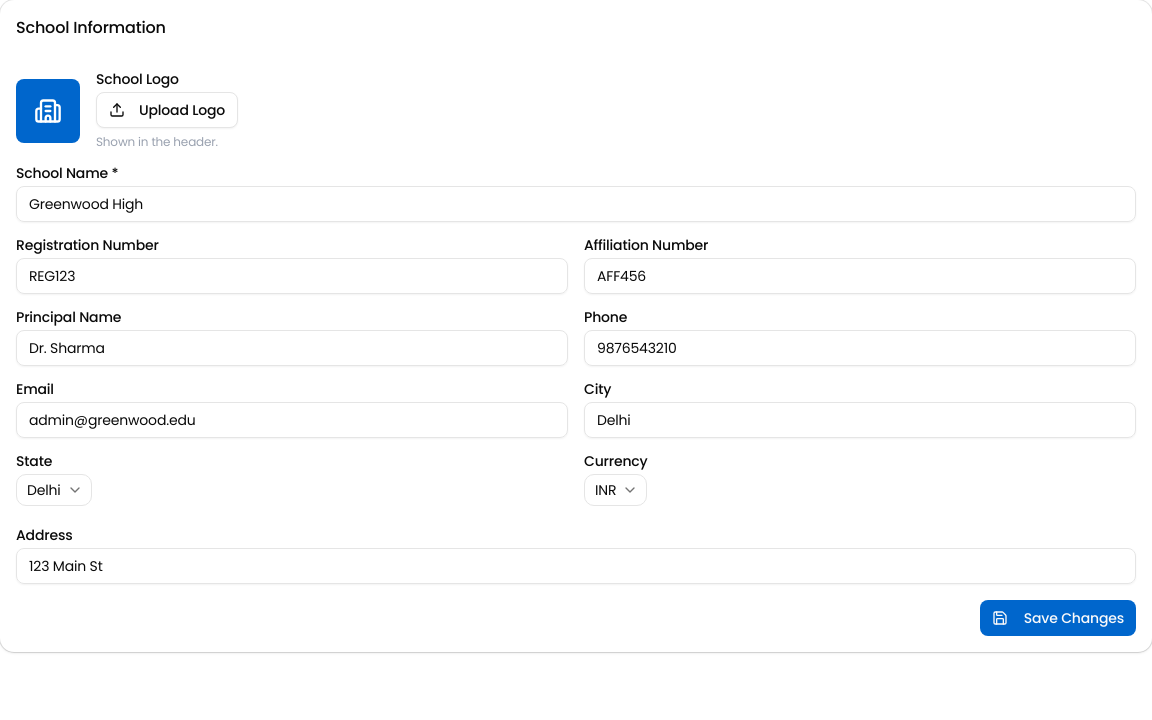
Scenario: SchoolInfoForm › blocks non-digit keystrokes in the phone field
The width and height of the screenshot is (1152, 720).
Replace the text in the field showing "9876543210" below "Phone" with "abc123def". click: [860, 348]
box: [584,330,1136,366]
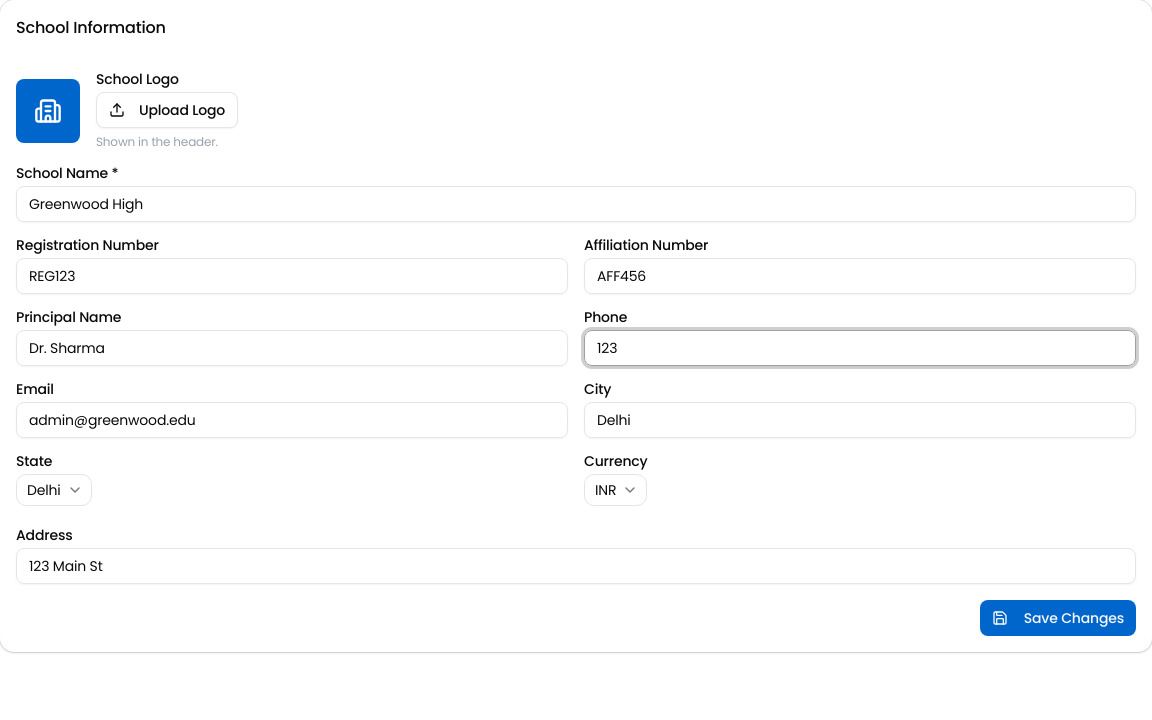
Now the field showing "9876543210" below "Phone" holds "123", box [584,330,1136,366]
